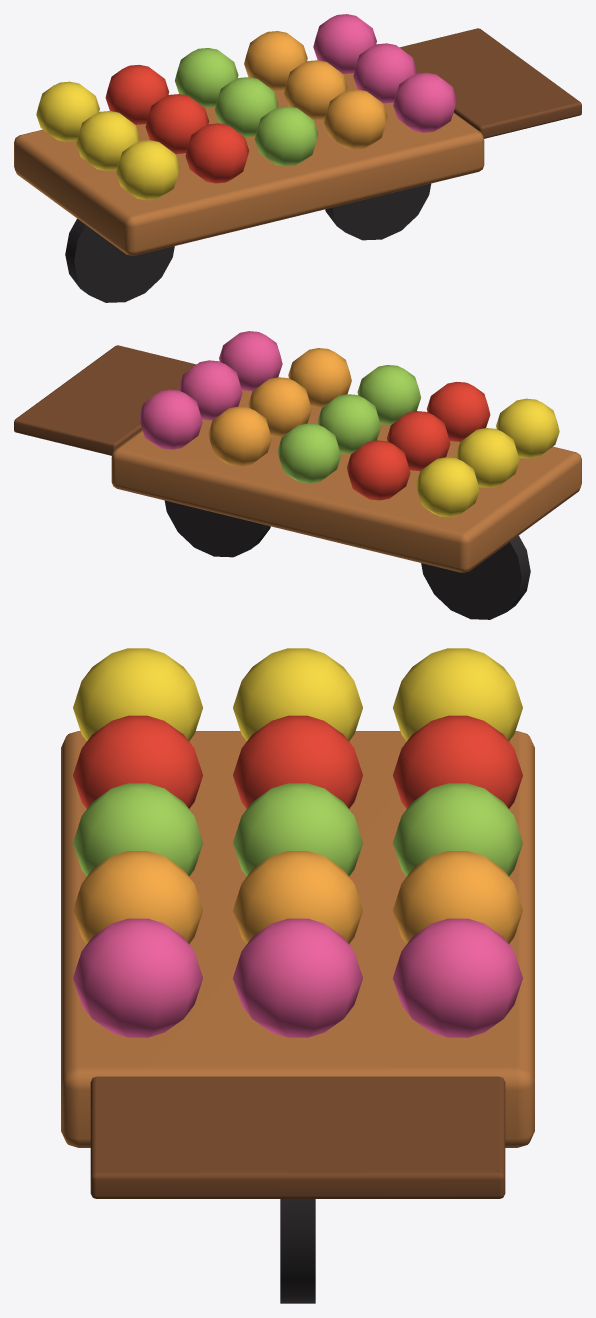
File: fruit_cart.glb
3 views of the same model, one above another, from view 1: azimuth 30°, elevation 25°; view 2: azimuth 150°, elevation 25°; view 3: azimuth 270°, elevation 25° (orthographic). The views are drawn at different scales.
Parts seen in each view (by area): view 1: Bed, Handle, Wheel, Wheel.001, Fruit.006, Fruit, Fruit.009, Fruit.012, Fruit.003, Fruit.001, Fruit.002, Fruit.010 (+7 smaller); view 2: Bed, Handle, Wheel, Wheel.001, Fruit.008, Fruit.002, Fruit.011, Fruit.014, Fruit.005, Fruit.001, Fruit, Fruit.010 (+7 smaller); view 3: Bed, Handle, Fruit.012, Fruit.014, Fruit.013, Fruit.004, Fruit.003, Fruit.005, Fruit.010, Fruit.009, Fruit.011, Fruit (+6 smaller).
Part boxes in pixels (box(x1,y1,x2,y2)): Bed: box(14, 73, 484, 255); Handle: box(399, 28, 581, 138); Wheel: box(65, 218, 174, 302); Wheel.001: box(325, 183, 431, 240); Fruit.006: box(254, 106, 318, 166); Fruit: box(116, 140, 179, 200); Fruit.009: box(324, 89, 387, 149); Fruit.012: box(393, 72, 456, 132); Fruit.003: box(185, 123, 249, 183); Fruit.001: box(76, 111, 139, 170); Fruit.002: box(36, 81, 99, 141); Fruit.010: box(284, 60, 347, 120); Bed: box(111, 390, 581, 572); Handle: box(14, 345, 196, 455); Wheel: box(421, 535, 530, 619); Wheel.001: box(164, 500, 270, 557); Fruit.008: box(277, 423, 341, 483); Fruit.002: box(416, 457, 479, 517); Fruit.011: box(208, 406, 271, 466); Fruit.014: box(139, 389, 202, 449); Fruit.005: box(346, 440, 410, 500); Fruit.001: box(456, 428, 519, 487); Fruit: box(496, 398, 559, 458); Fruit.010: box(248, 377, 311, 437); Bed: box(61, 731, 534, 1147); Handle: box(90, 1076, 505, 1198); Fruit.012: box(73, 918, 202, 1037); Fruit.014: box(393, 918, 522, 1037); Fruit.013: box(233, 918, 362, 1037); Fruit.004: box(233, 715, 362, 808); Fruit.003: box(73, 715, 202, 808); Fruit.005: box(393, 715, 522, 808); Fruit.010: box(233, 851, 362, 943); Fruit.009: box(73, 851, 202, 943); Fruit.011: box(393, 851, 522, 943); Fruit: box(73, 648, 202, 741).
Bounding box in the file's own units: 1.8 × 0.7 × 0.8.
